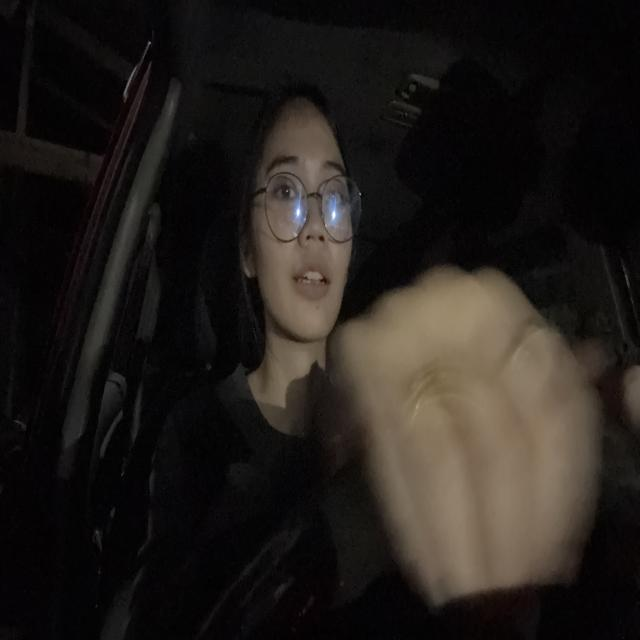open: (260, 146, 300, 211), (322, 156, 348, 222)
